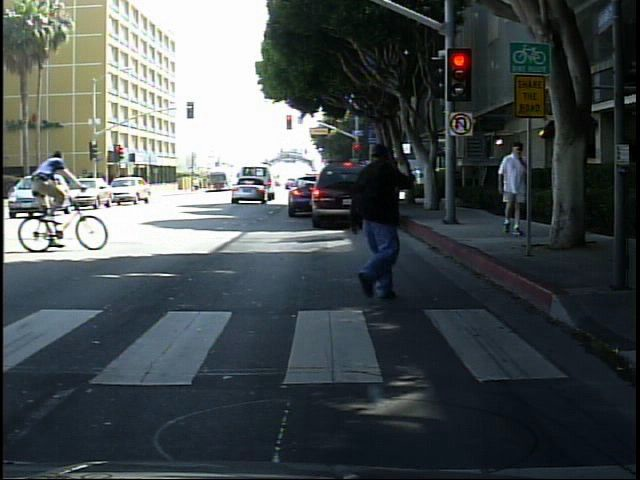person: (334, 130, 418, 313), (23, 138, 85, 243), (558, 138, 593, 245), (494, 140, 532, 238)
